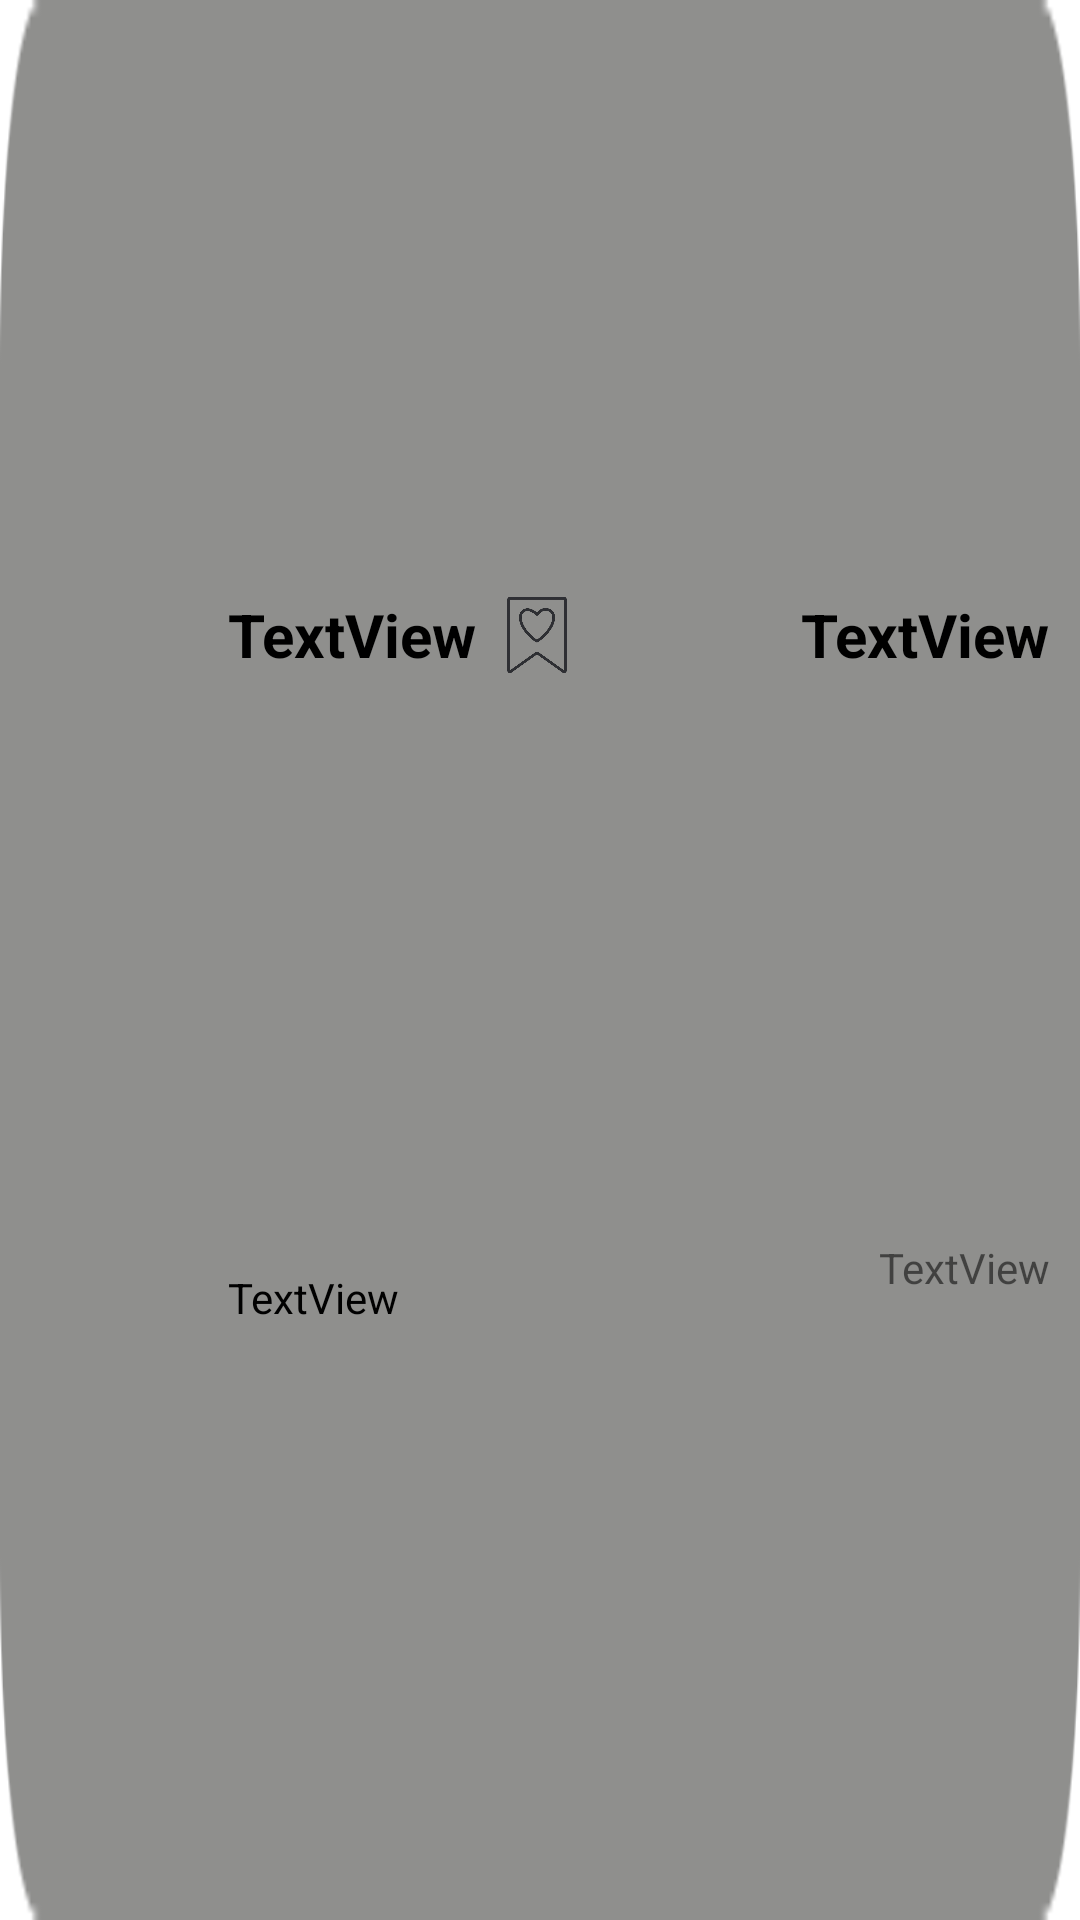

Where to tap for icons on this 1080×1920 app screen, as (x,y):
nonfavourite: (537,635)
